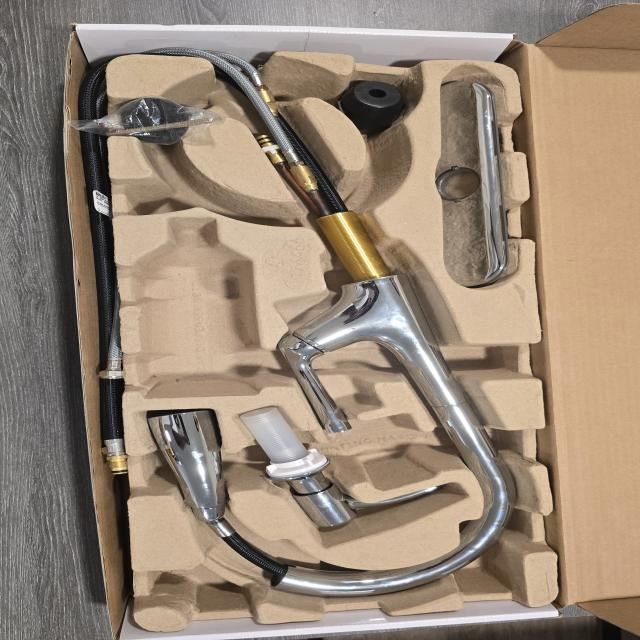1: (148, 56, 520, 598)
2: (237, 408, 442, 526)
3m: (134, 215, 256, 398)
4: (436, 81, 512, 286)
5: (338, 80, 410, 136)
6m: (125, 158, 257, 220)
7: (73, 98, 224, 150)
